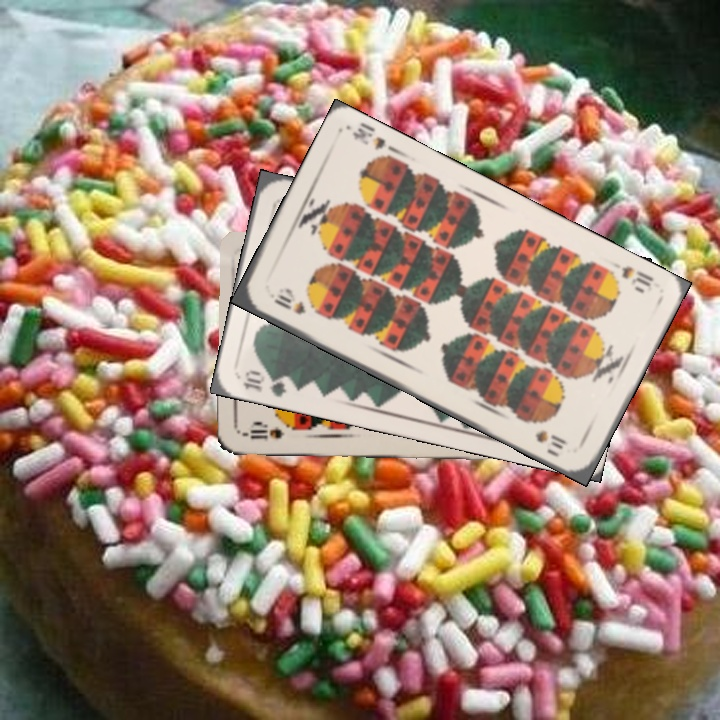G10: (239, 365, 289, 400)
S10: (617, 262, 657, 296), (269, 290, 308, 317), (239, 422, 287, 442)
